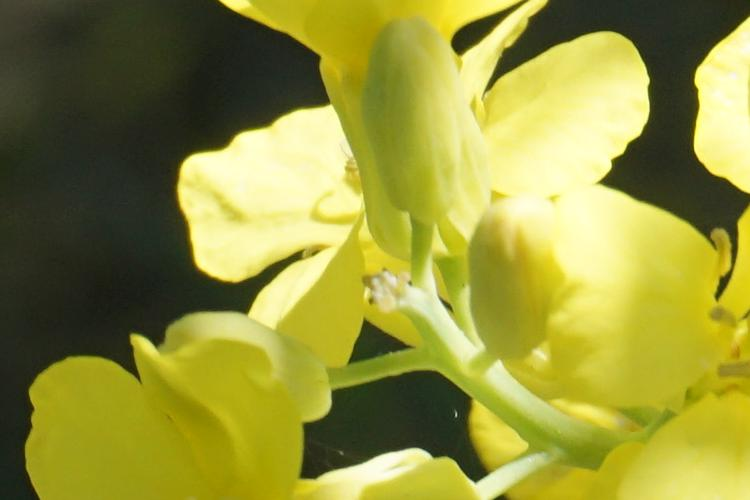bud: (367, 21, 491, 226), (459, 201, 558, 374)
yellow: (206, 44, 648, 275), (21, 297, 340, 492), (577, 205, 750, 488)
